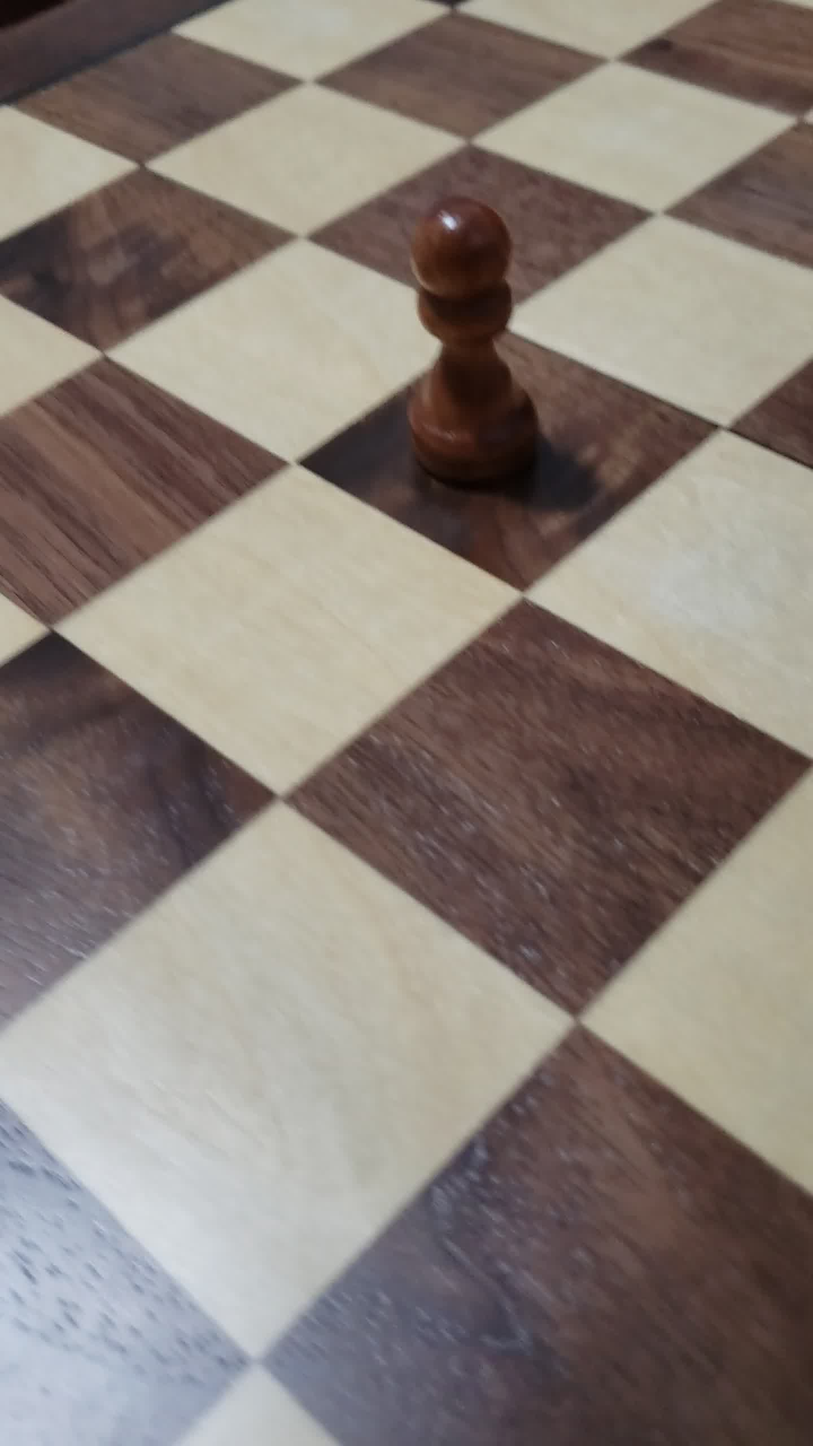black-pawn: (375, 190, 559, 499)
